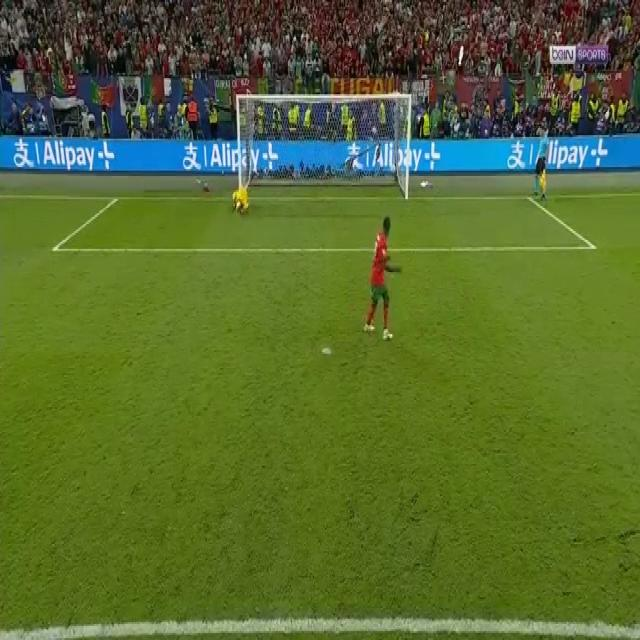arbitre: (528, 119, 554, 200)
cage: (236, 94, 411, 201)
gardien: (233, 181, 256, 214)
joueur: (355, 194, 407, 342)
